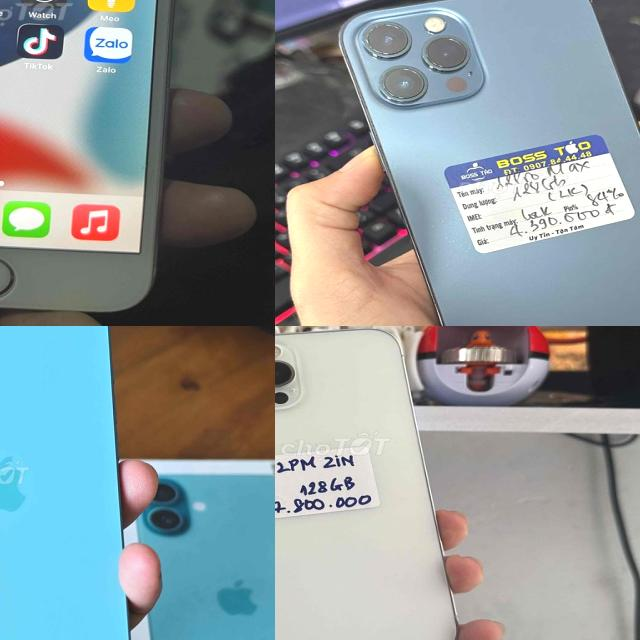gen_12_13: (335, 0, 640, 326), (275, 326, 460, 640)
gen_16: (0, 326, 138, 640)
gen_6: (0, 0, 193, 321)
